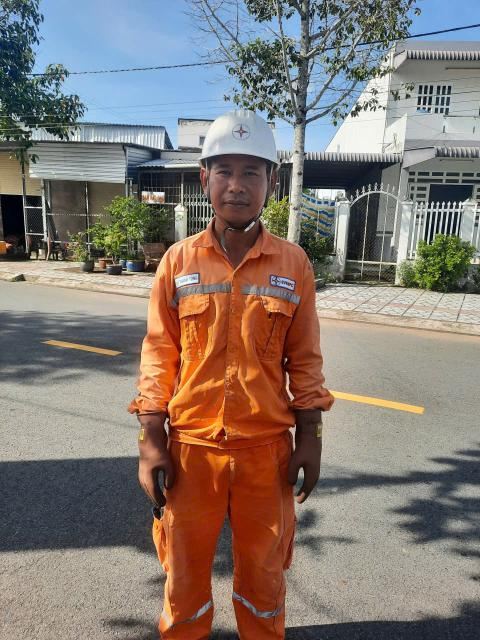gloves: (123, 393, 188, 514), (273, 393, 330, 504)
helmet: (186, 106, 286, 166)
